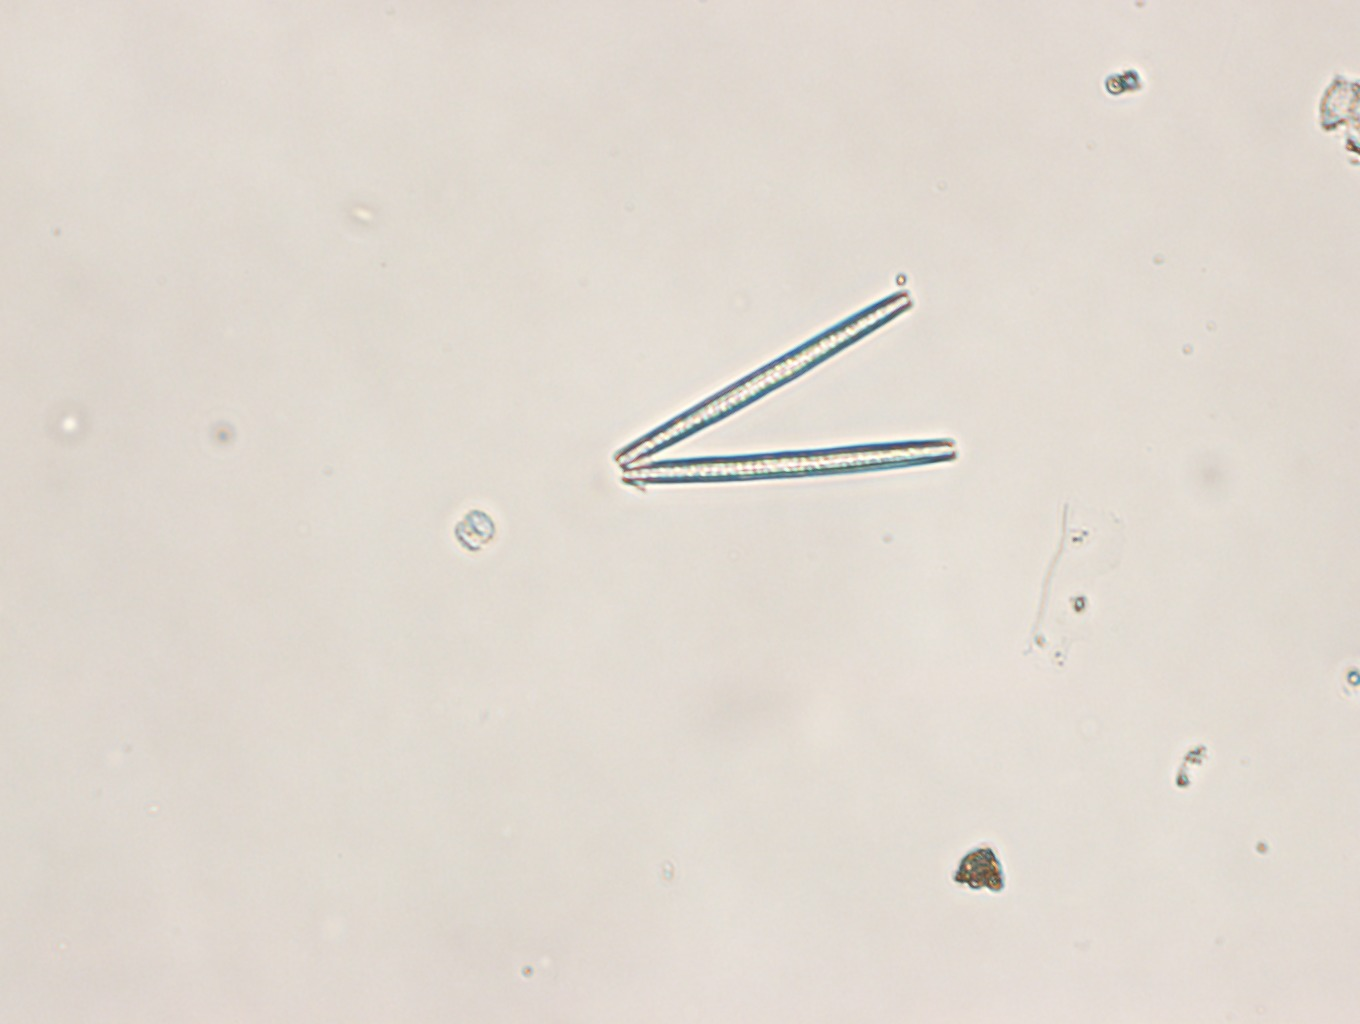thalassionema nitzschioides: (611, 289, 957, 486)
